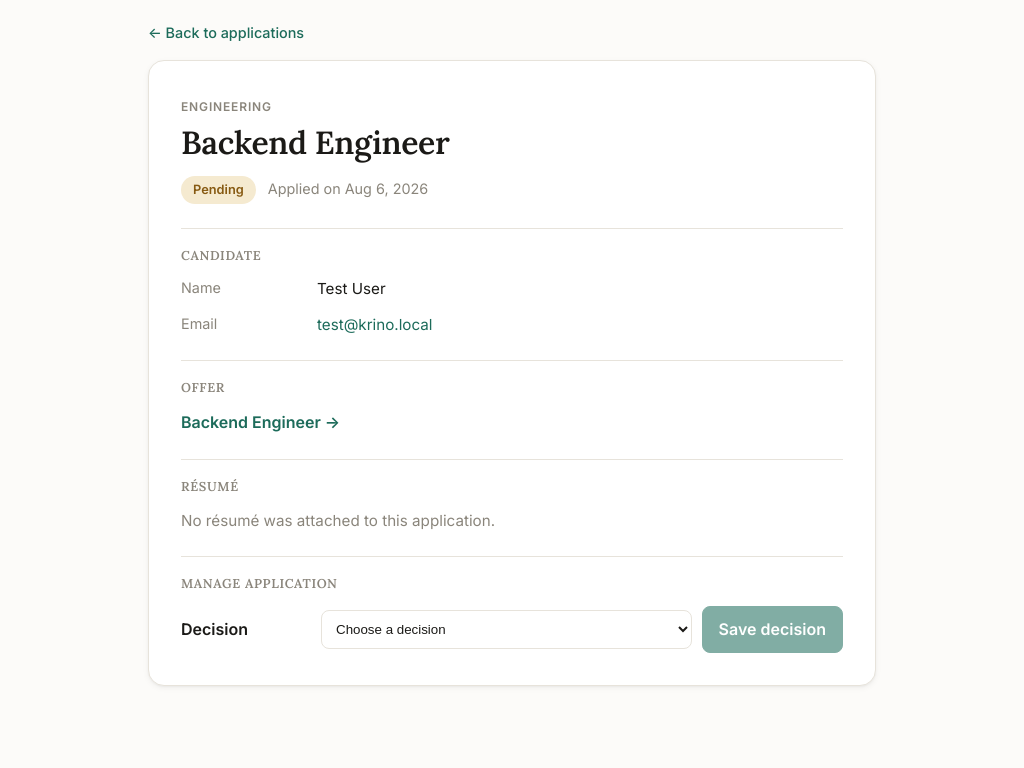
Test: application detail actions › lets HR record a decision and immediately shows the returned status
Select "Accepted" in the dropdown labelled "Decision" at (506, 629), box [321,610,692,649]
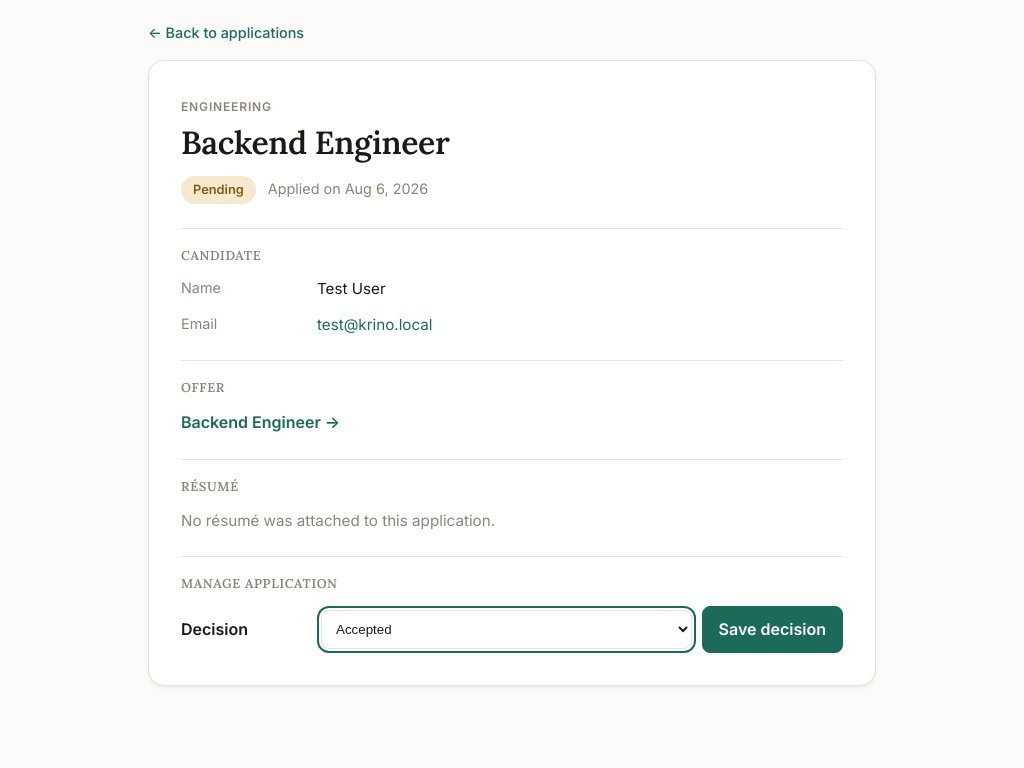
Click the button "Save decision" at (772, 629), box [702,606,843,653]
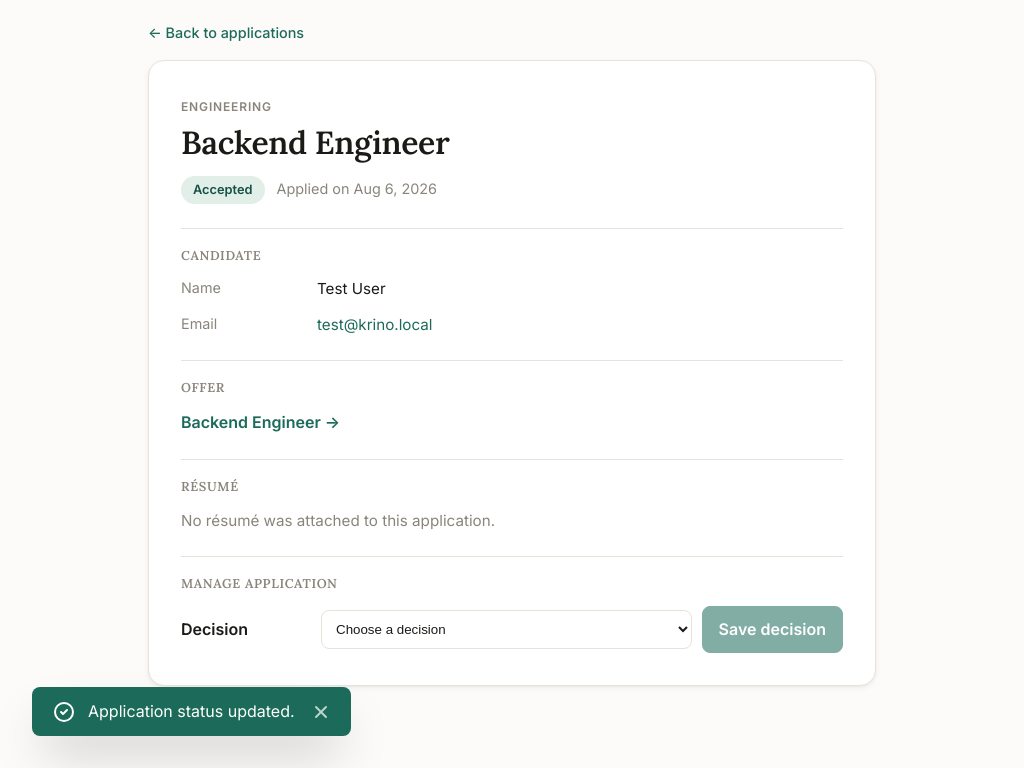
Now the text with class "status-badge" reads "Accepted", box [193,182,252,197]
